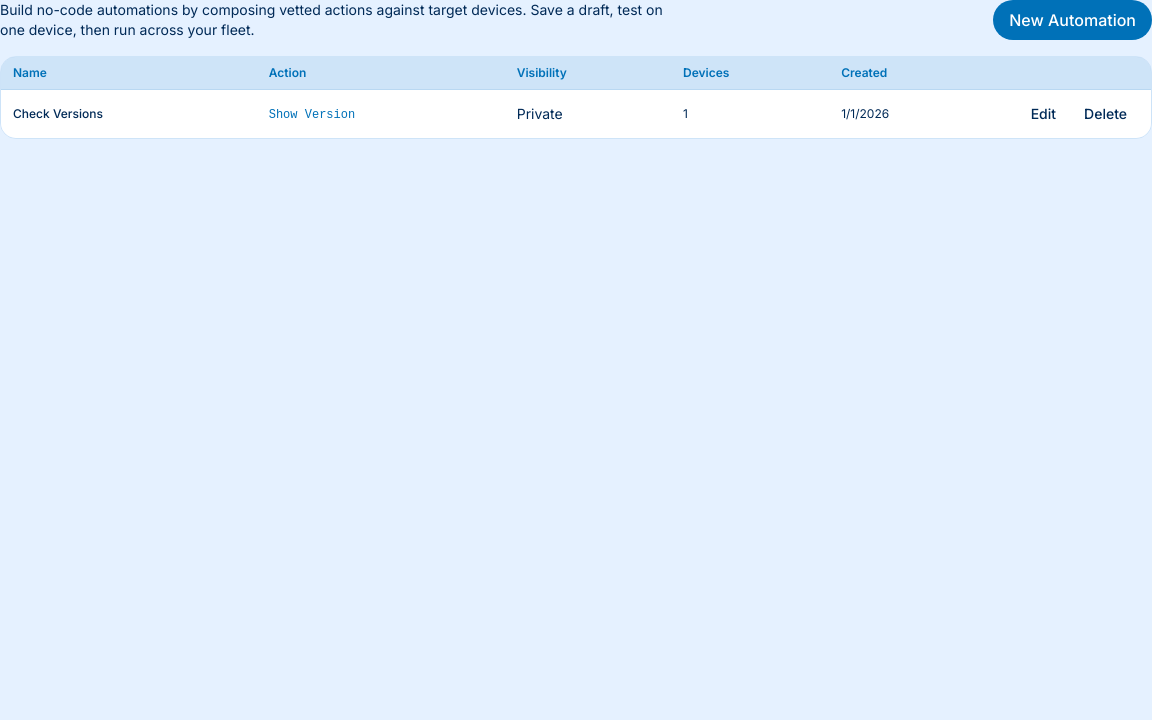
Test: Builder — schedule section (existing automation) › renders existing schedules from the API
Click the text "Check Versions".
click(58, 114)  # box left=13, top=106, right=103, bottom=121
(page scrolled)
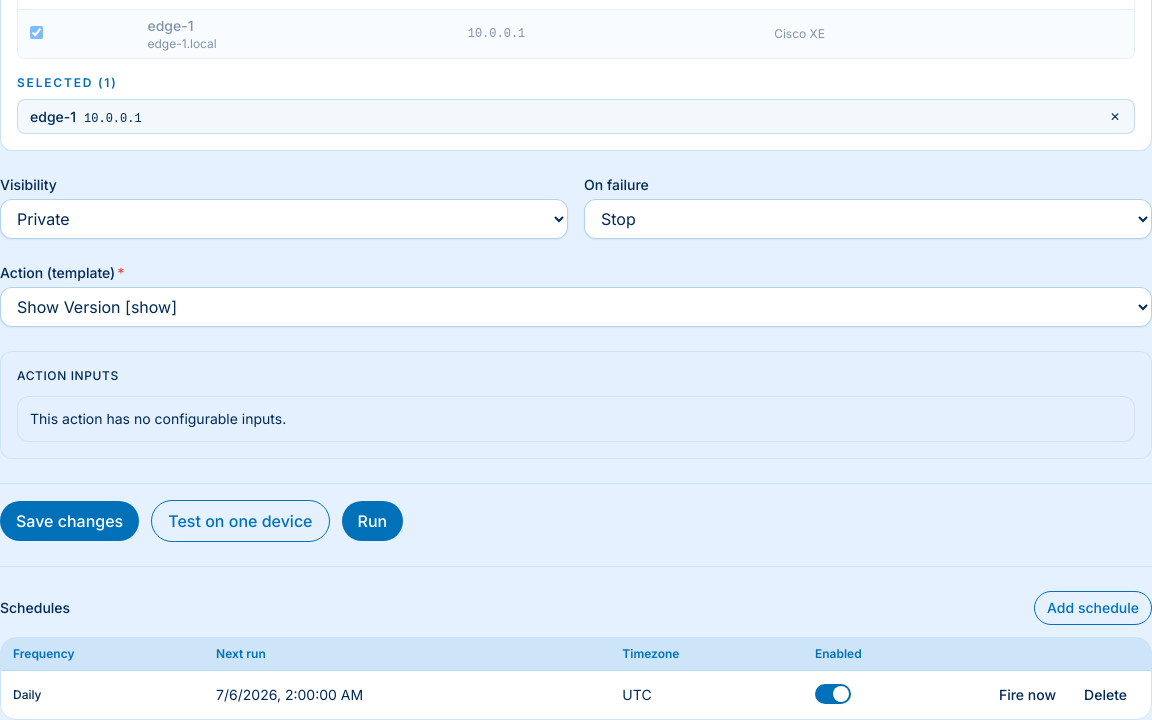
Result: the text "Daily" is shown at left=13, top=687, right=42, bottom=702
